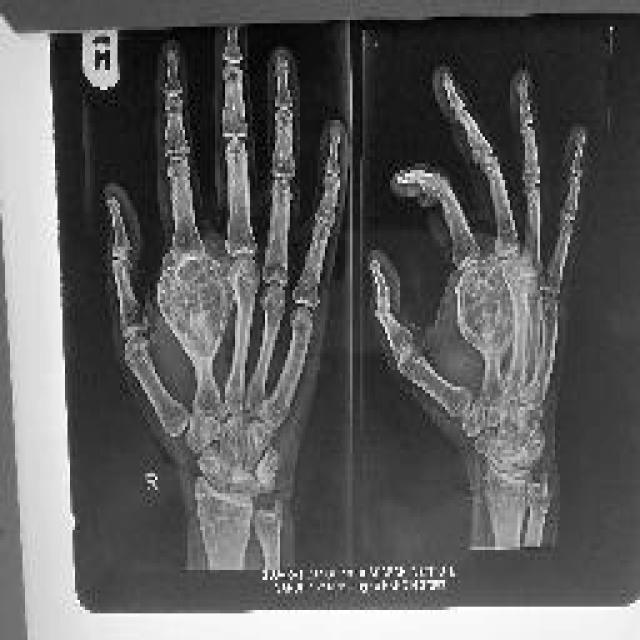bone-cancer: (158, 252, 231, 362), (455, 257, 514, 358)
